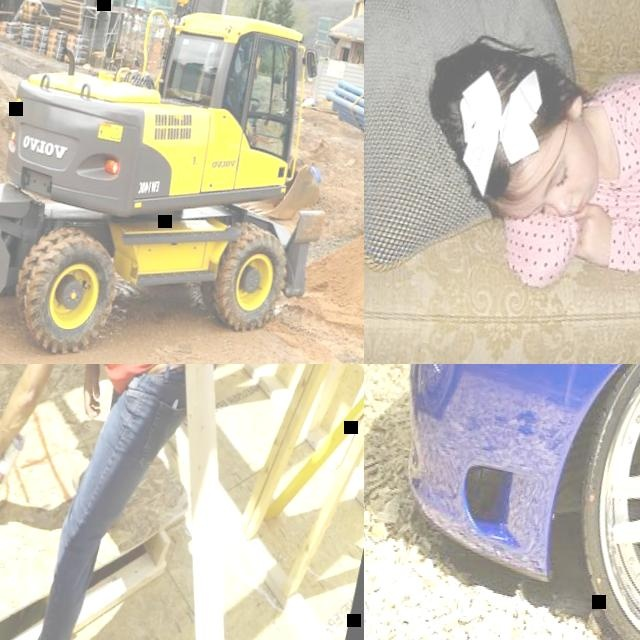NO-Hardhat: (438, 37, 583, 222)
NO-Mask: (564, 149, 604, 218)
NO-Safety Vest: (586, 65, 640, 237)
Person: (393, 8, 640, 356), (0, 364, 257, 640), (219, 58, 268, 142)
Safety Vest: (226, 70, 248, 106)
machinery: (0, 0, 364, 364)
vehicle: (364, 364, 640, 640)
